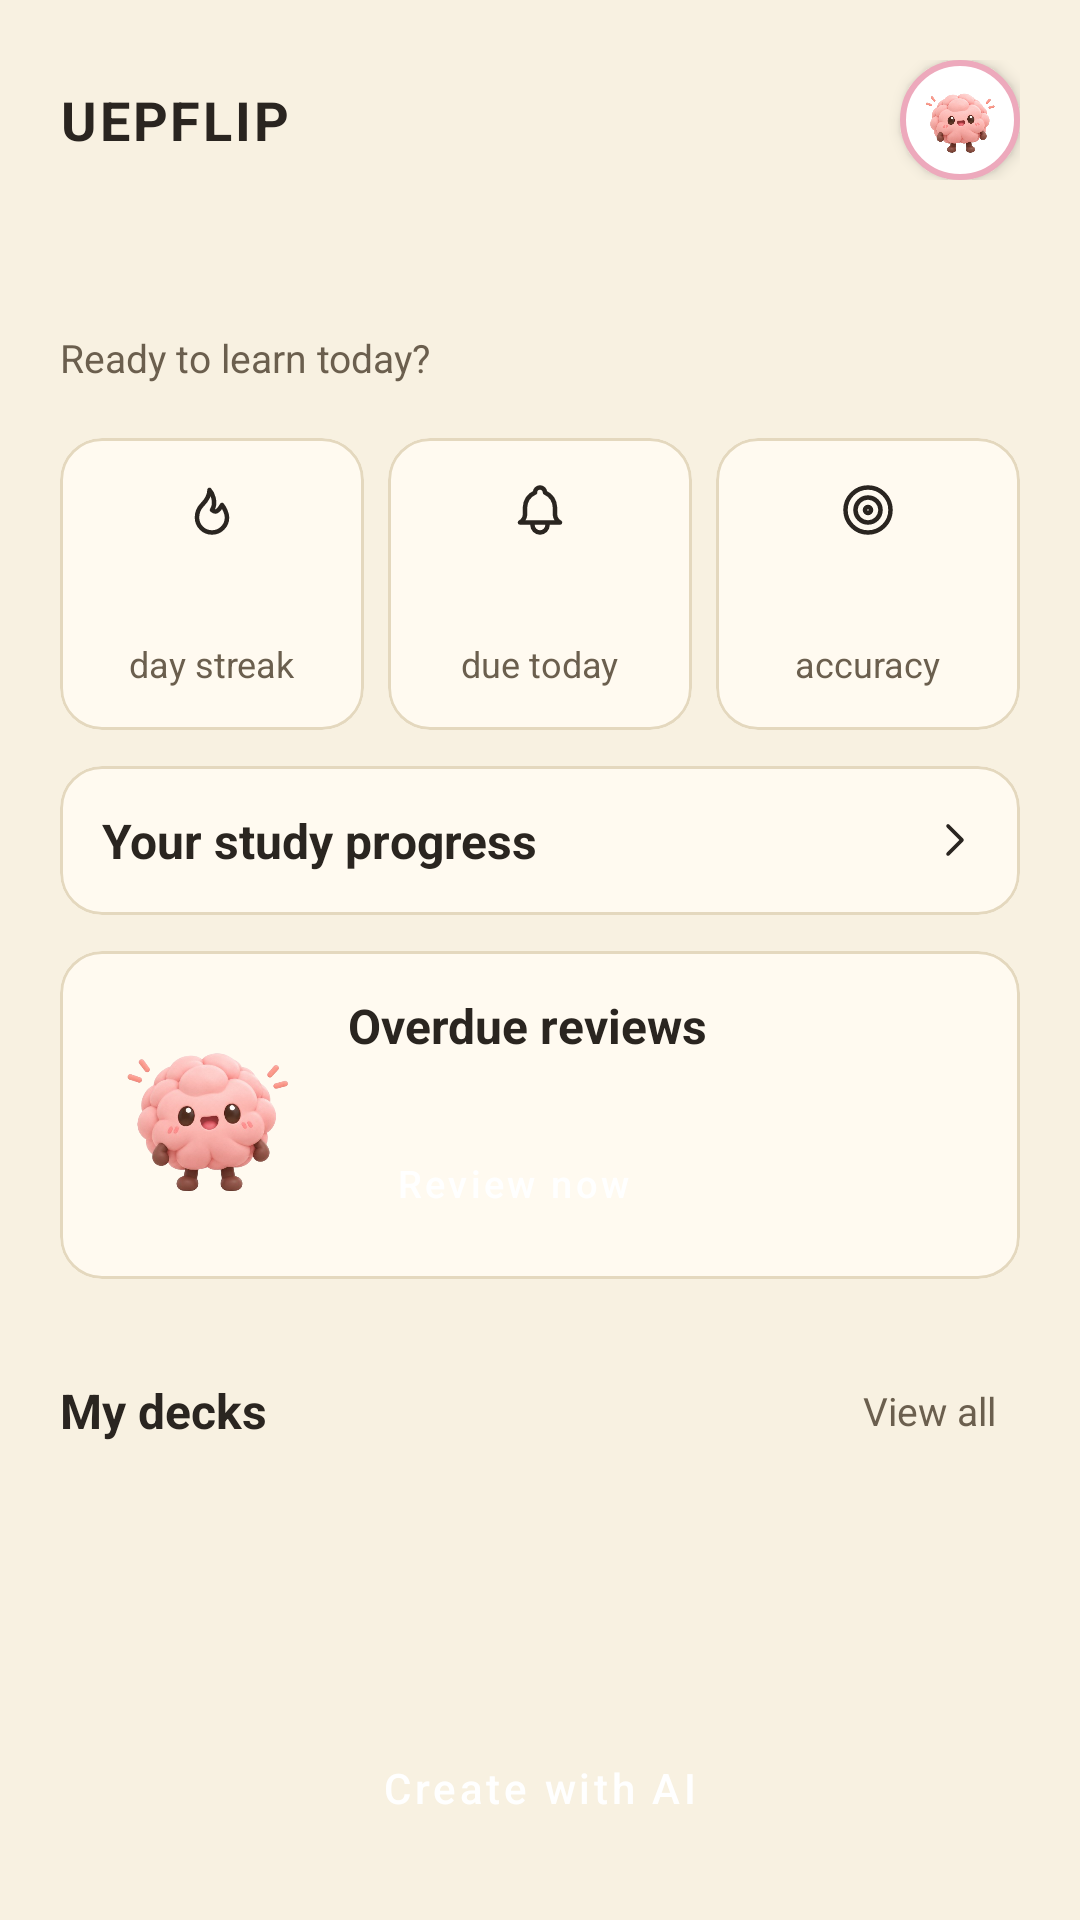

Point at icon controls on the screen. Image size 1080 x 1920, points as (x=x, y=y).
bell: (x=540, y=510)
chev: (x=955, y=840)
flame: (x=212, y=511)
mascot: (x=207, y=1122)
Open profile: (x=960, y=120)
target: (x=868, y=510)
